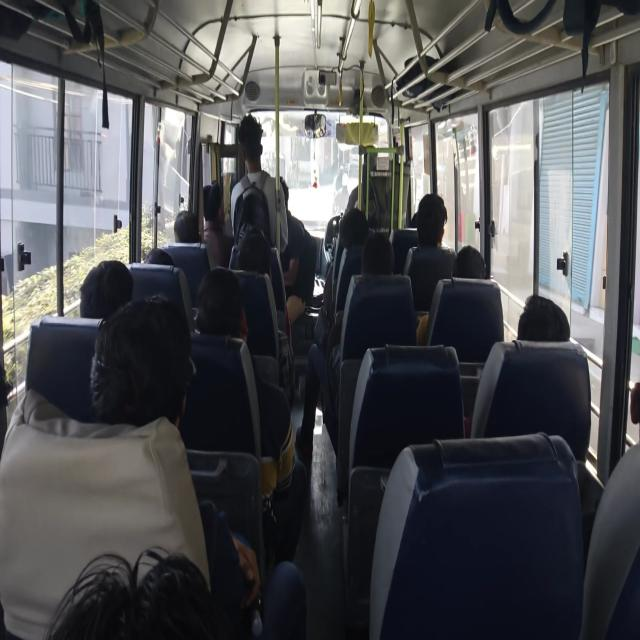person: (61, 559, 216, 640), (108, 328, 211, 429), (518, 285, 576, 352), (74, 256, 121, 337), (203, 276, 254, 334), (416, 190, 452, 255), (231, 238, 280, 284), (335, 206, 381, 248), (361, 240, 403, 282), (452, 240, 488, 281), (238, 117, 274, 158), (166, 205, 201, 243), (148, 244, 187, 270), (204, 191, 224, 232), (238, 228, 274, 240)
